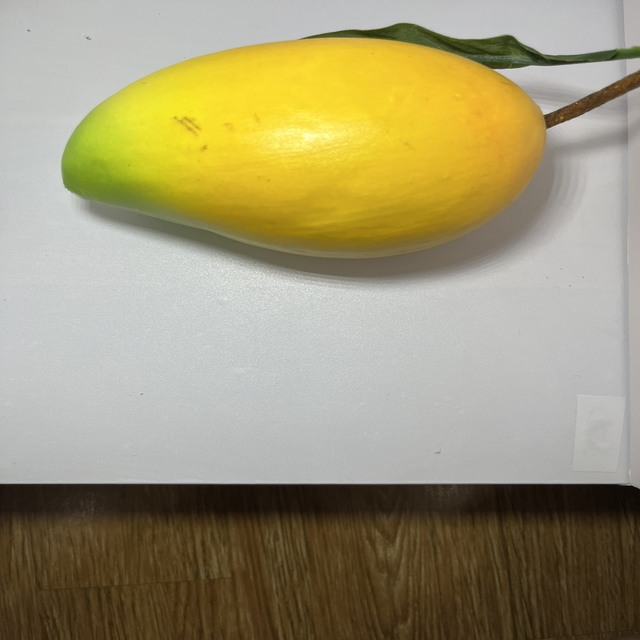Xoai: (55, 24, 556, 273)
